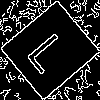L: (25, 25, 77, 76)
